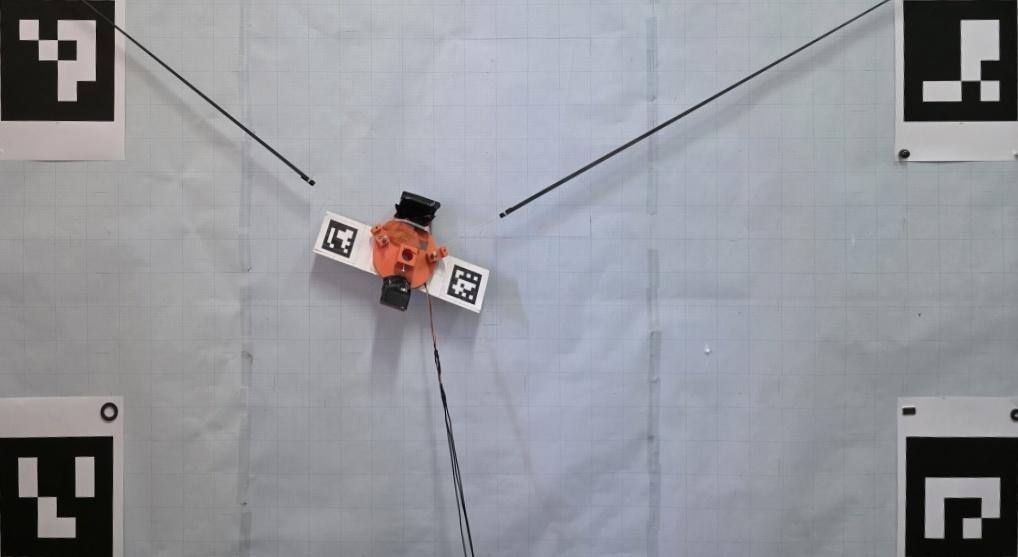robot: (370, 191, 449, 311)
